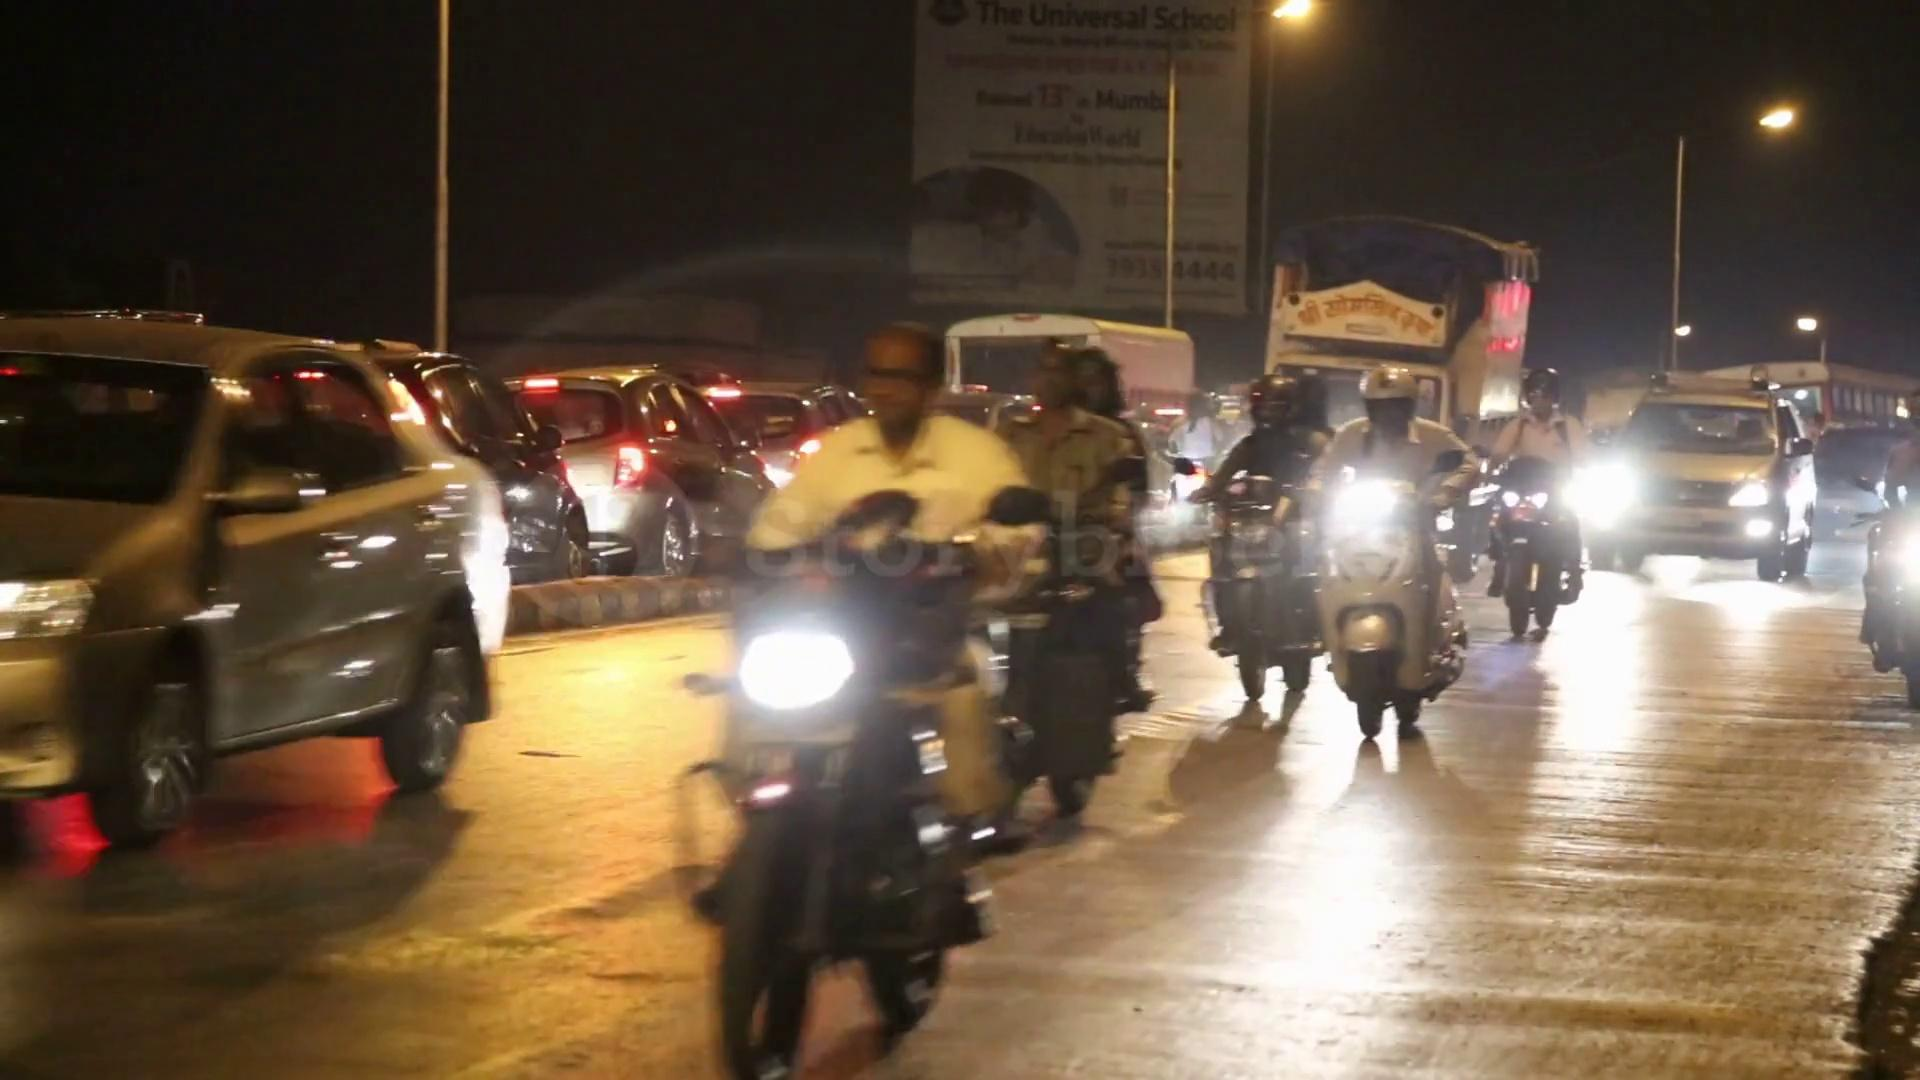rider: (691, 321, 1053, 1073), (1013, 329, 1161, 814), (1333, 361, 1461, 750), (1204, 347, 1314, 710), (1484, 367, 1594, 636)
with_helmate: (1353, 359, 1413, 429), (1243, 371, 1296, 430), (1519, 363, 1563, 406)
without_helmate: (847, 321, 961, 431)
